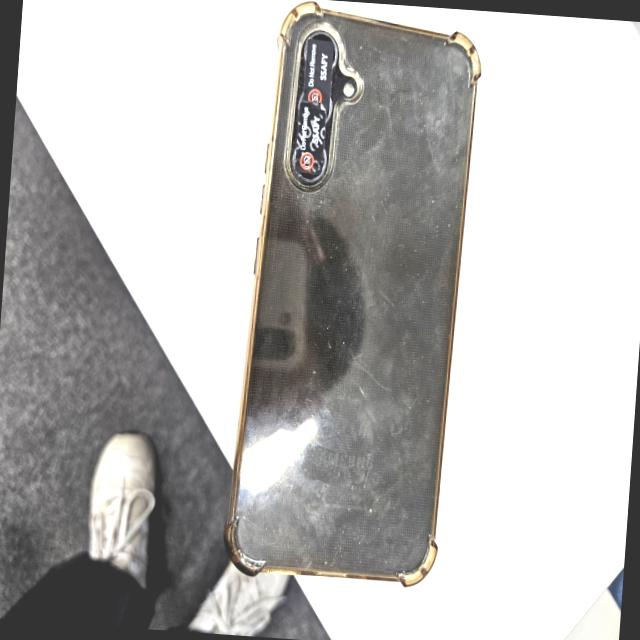phone: (217, 0, 483, 591)
removed_sticker: (293, 102, 325, 172)
sticker: (304, 40, 332, 106)
